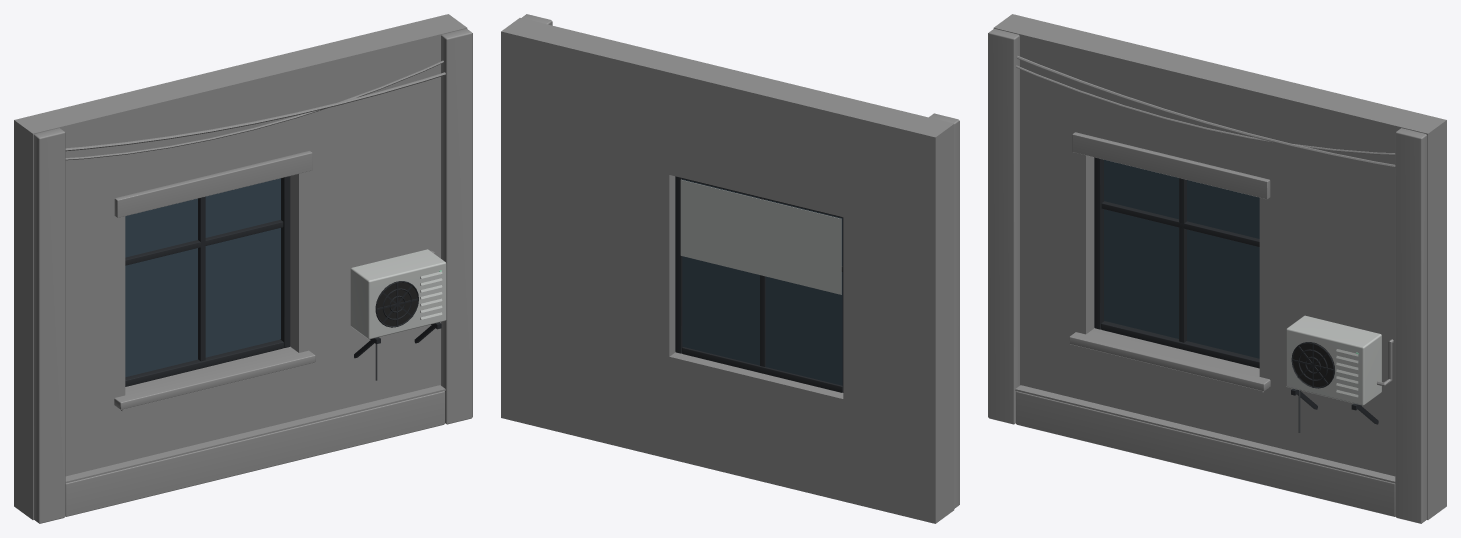
Rendered from Building_Facade_Brick_Window_AC.fbx.
3 views of the same model, side by side, from view 1: azimuth 30°, elevation 25°; view 2: azimuth 150°, elevation 25°; view 3: azimuth 330°, elevation 25° (orthographic).
Visible parts, largest first — view 1: Building_Facade_Brick_Window_AC_LOD0; view 2: Building_Facade_Brick_Window_AC_LOD0; view 3: Building_Facade_Brick_Window_AC_LOD0.
Part boxes in pixels (bbox=[...]): Building_Facade_Brick_Window_AC_LOD0: bbox=[14, 14, 472, 523]; Building_Facade_Brick_Window_AC_LOD0: bbox=[501, 14, 959, 523]; Building_Facade_Brick_Window_AC_LOD0: bbox=[988, 14, 1446, 523].
Size of what is drawn, in the model's own units: 4 by 3.4 by 0.67.
